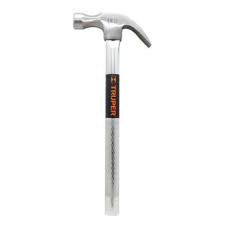martillu: (71, 5, 153, 218)
